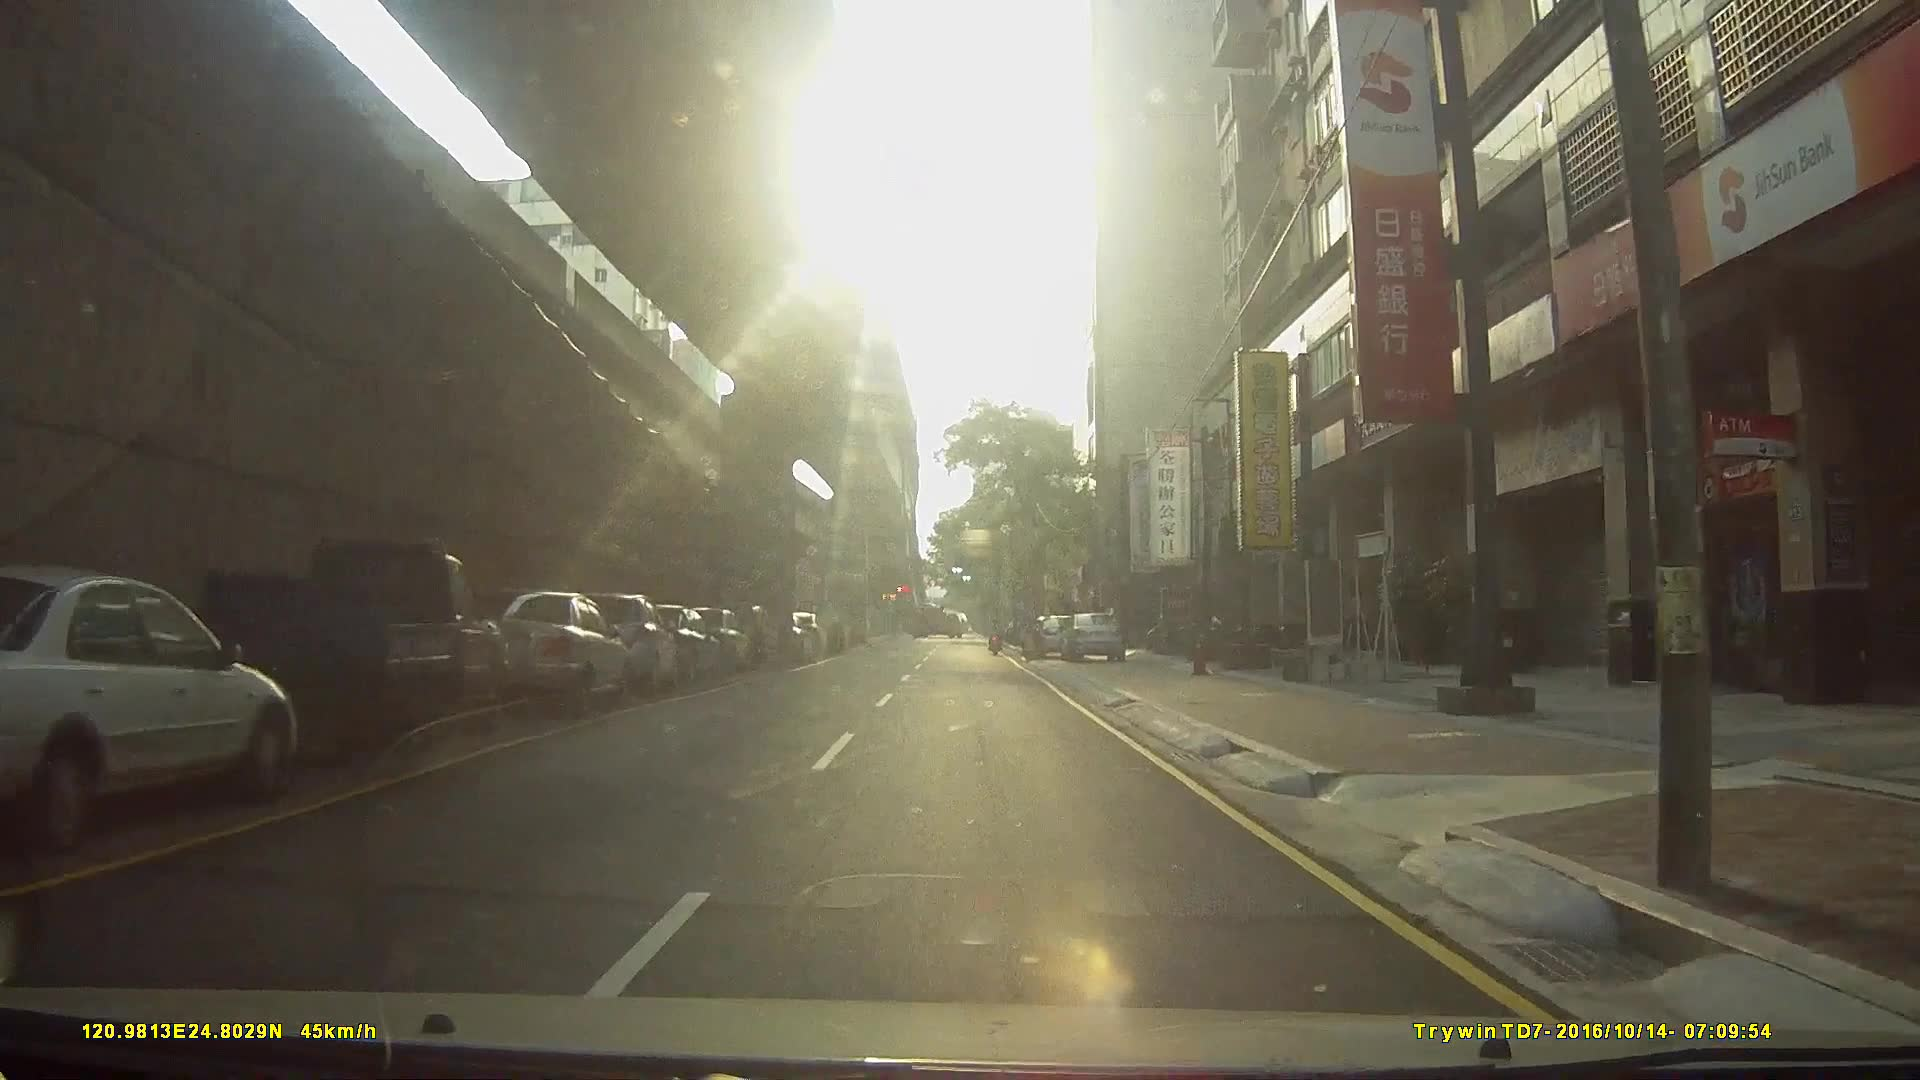vehicle: (0, 564, 301, 862), (196, 538, 510, 752), (462, 589, 633, 716), (564, 591, 680, 694), (597, 612, 729, 700), (659, 620, 794, 670), (1058, 611, 1127, 663)
